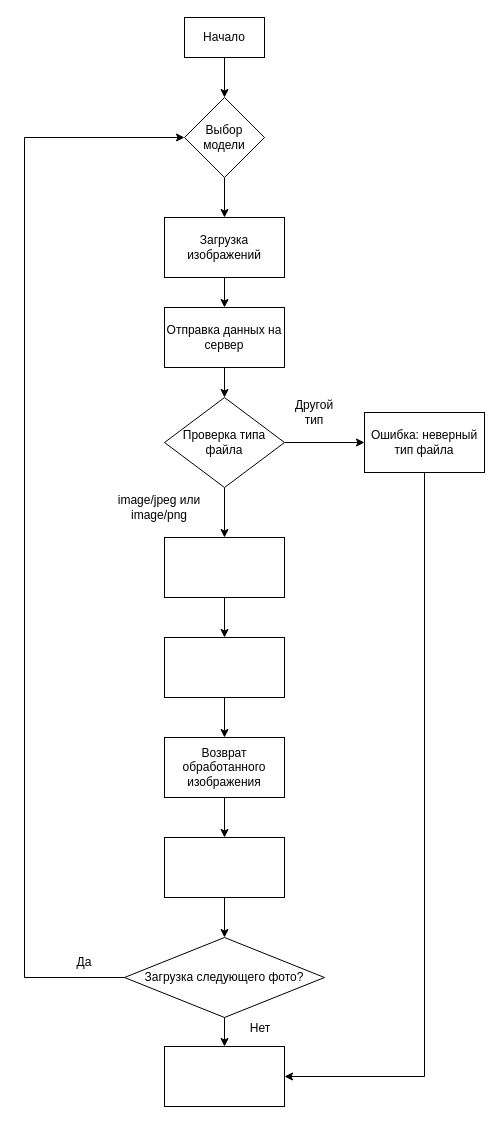
Some shapes in this 502 by 1124 pixel diagram are drawn without their labels. The centre of each missing label's shape, as x and y in pixels:
Конец: the point at 224,1076
Обработка изображения: the point at 224,567
Отображение результата: the point at 224,867
Отрисовка рамок: the point at 224,667
